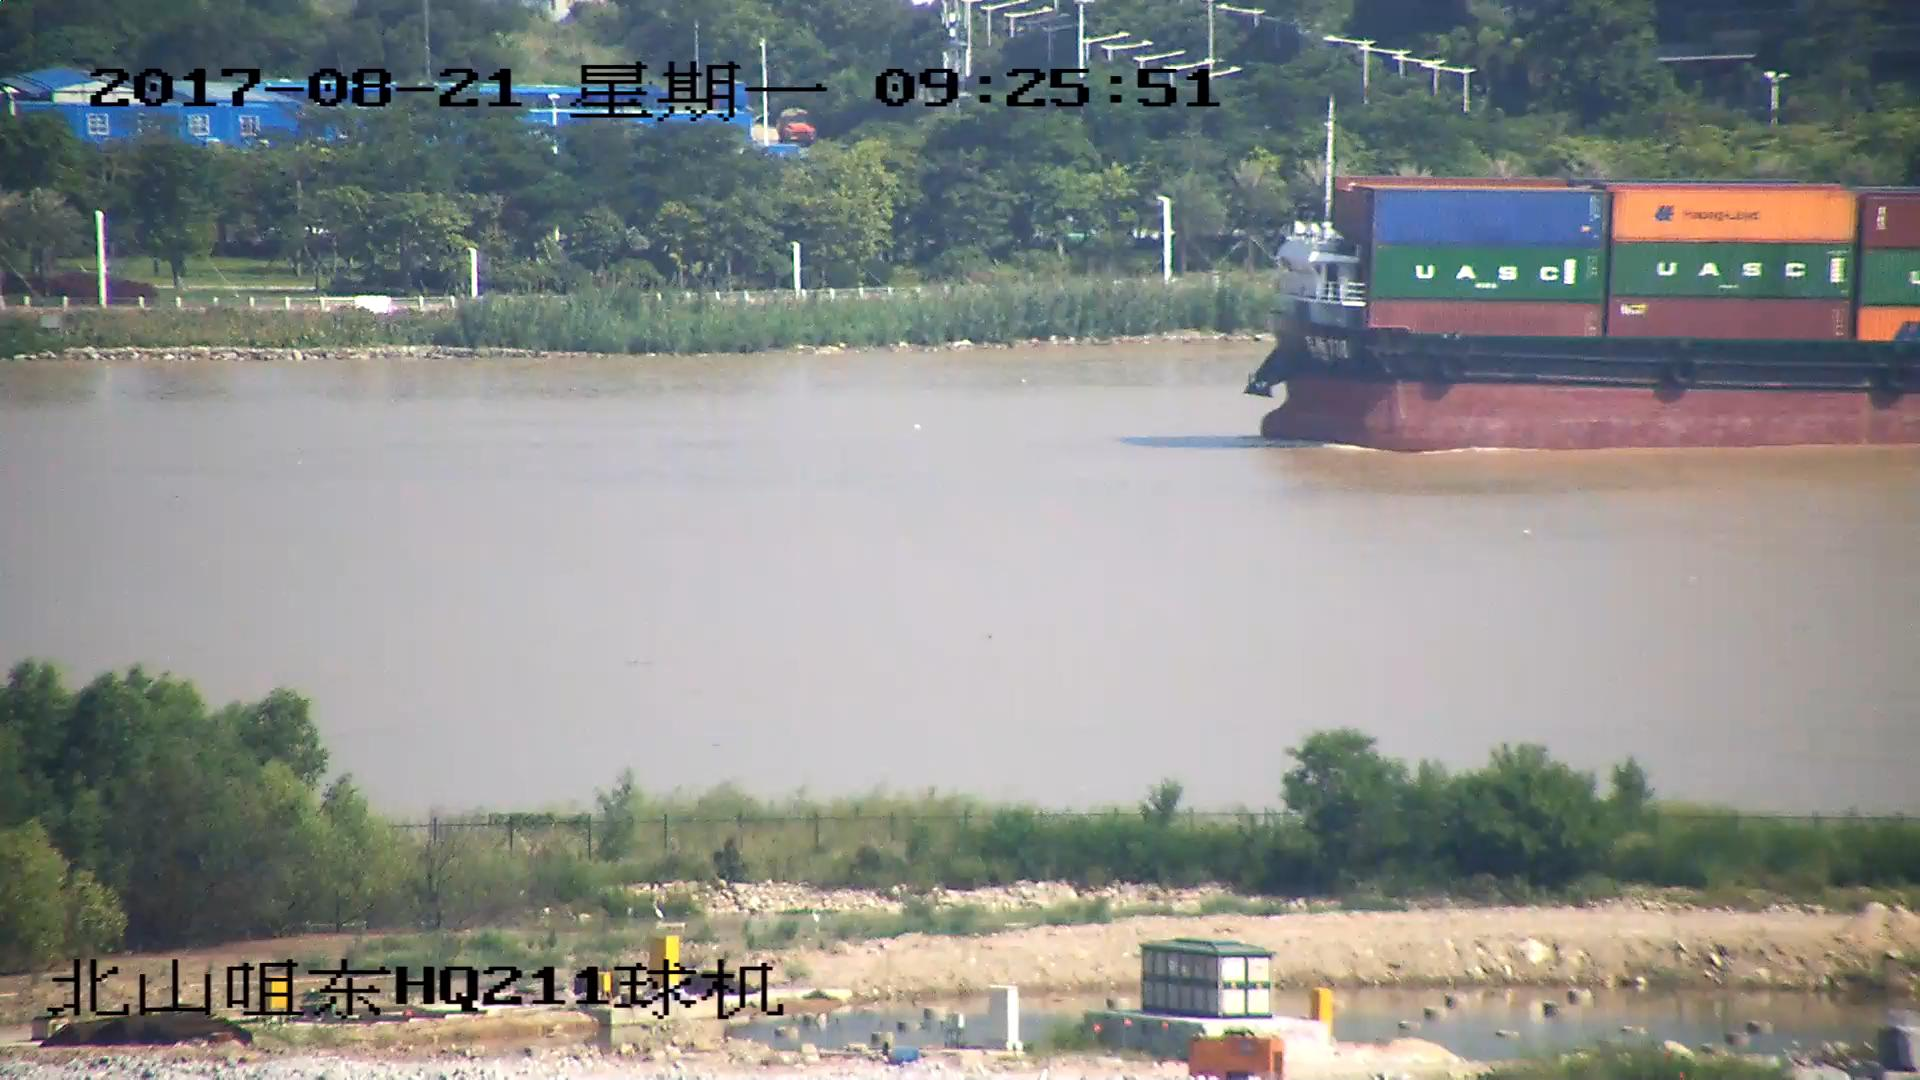container ship: (1235, 103, 1920, 450)
